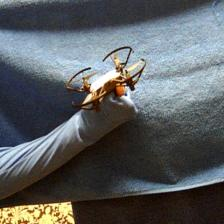drone: (66, 45, 148, 114)
